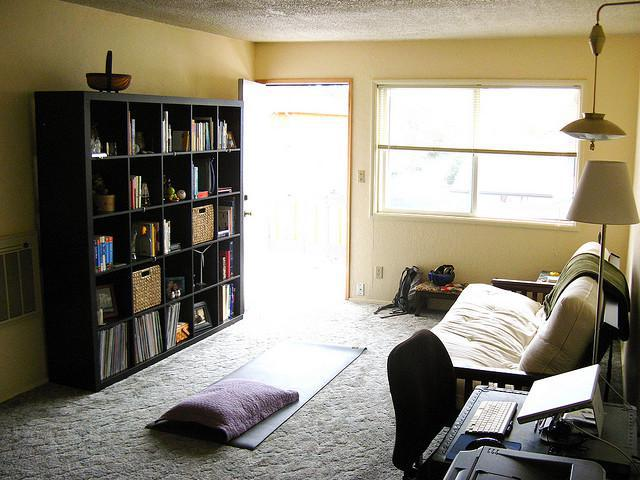tv: (527, 370, 595, 436), (468, 395, 510, 438)
